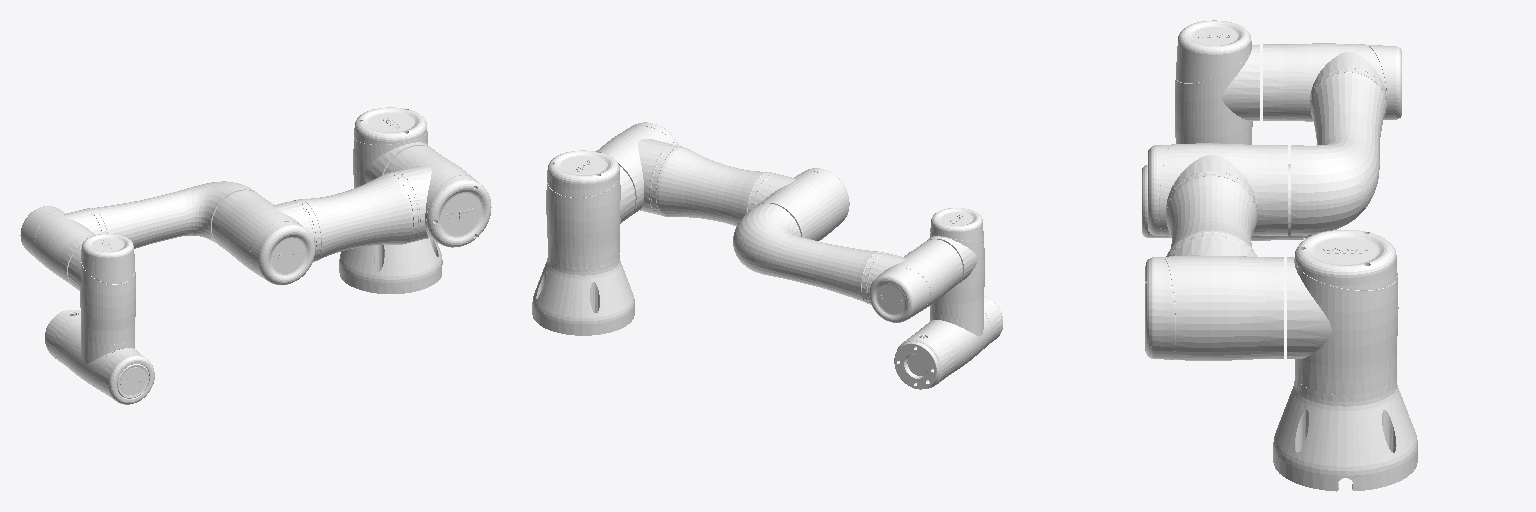
The robot description file, URDF, robot "jaka_zu3":
<?xml version="1.0" encoding="utf-8"?>
<!-- =================================================================================== -->
<!-- |    This document was autogenerated by xacro from jaka_zu3.xacro                 | -->
<!-- |    EDITING THIS FILE BY HAND IS NOT RECOMMENDED                                 | -->
<!-- =================================================================================== -->
<robot name="jaka_zu3">
  <!-- ZU3 -->
  <link name="world"/>
  <joint name="world_joint" type="fixed">
    <parent link="world"/>
    <child link="base_footprint"/>
    <origin rpy="0 0 0" xyz="0 0 0"/>
  </joint>
  <link name="base_footprint">
    <!--
    <xacro:box_inertial_matrix m="200" w ="1" h="0.01" d="1" />
    <visual>
      <origin xyz="0 0 0" rpy="0 0 0" />
      <geometry>
        <box size = "1 1 0.01" />
      </geometry>
      <material name="" />
    </visual>
    <collision>
        <geometry>
          <box size="0 0 0"/>
        </geometry>
        <origin rpy="0 0 0" xyz="0 0 0"/>
      </collision>
-->
  </link>
  <link name="arm_base_link">
    <inertial>
      <origin rpy="0 0 0" xyz="-0.0015673 1.77850000000031E-05 0.05088"/>
      <mass value="0.46392"/>
      <inertia ixx="0.00064493" ixy="-9.92249999999993E-08" ixz="-1.0723E-05" iyy="0.00065156" iyz="-3.78539999999989E-07" izz="0.00083276"/>
    </inertial>
    <visual>
      <origin rpy="1.5707963267949 0 0" xyz="0 0 0"/>
      <geometry>
        <mesh filename="package://jaka_description/meshes/jaka_zu3_meshes/link_0.STL"/>
      </geometry>
      <material name="">
        <color rgba="1 1 1 1"/>
      </material>
    </visual>
    <collision>
      <origin rpy="1.5707963267949 0 0" xyz="0 0 0"/>
      <geometry>
        <mesh filename="package://jaka_description/meshes/jaka_zu3_meshes/link_0.STL"/>
      </geometry>
    </collision>
  </link>
  <joint name="arm_base_joint" type="fixed">
    <origin rpy="0 0 0" xyz="0 0 0"/>
    <parent link="base_footprint"/>
    <child link="arm_base_link"/>
    <axis xyz="0 0 0"/>
  </joint>
  <link name="shoulder_pan_link">
    <inertial>
      <origin rpy="0 0 0" xyz="-1.6776E-07 -0.0039623 -0.0033443"/>
      <mass value="0.89667"/>
      <inertia ixx="0.0016001" ixy="-1.969E-08" ixz="1.9711E-09" iyy="0.0015182" iyz="-1.1122E-05" izz="0.0010892"/>
    </inertial>
    <visual>
      <origin rpy="1.5707963267949 0 0" xyz="0 0 0"/>
      <geometry>
        <mesh filename="package://jaka_description/meshes/jaka_zu3_meshes/link_1.STL"/>
      </geometry>
      <material name="">
        <color rgba="1 1 1 1"/>
      </material>
    </visual>
    <collision>
      <origin rpy="1.5707963267949 0 0" xyz="0 0 0"/>
      <geometry>
        <mesh filename="package://jaka_description/meshes/jaka_zu3_meshes/link_1.STL"/>
      </geometry>
    </collision>
  </link>
  <joint name="shoulder_pan_joint" type="continuous">
    <origin rpy="0 0 0" xyz="0 0 0.15055"/>
    <parent link="arm_base_link"/>
    <child link="shoulder_pan_link"/>
    <axis xyz="0 0 1"/>
    <limit effort="49" lower="-3" upper="3" velocity="1"/>
  </joint>
  <link name="shoulder_lift_link">
    <inertial>
      <origin rpy="0 0 0" xyz="-0.11439 4.56850000071297E-08 0.11644"/>
      <mass value="2.3246"/>
      <inertia ixx="0.0032395" ixy="7.60910000001259E-09" ixz="-0.00020566" iyy="0.027696" iyz="-3.73300000063435E-10" izz="0.02666"/>
    </inertial>
    <visual>
      <origin rpy="1.5707963267949 0 0" xyz="0 0 0"/>
      <geometry>
        <mesh filename="package://jaka_description/meshes/jaka_zu3_meshes/link_2.STL"/>
      </geometry>
      <material name="">
        <color rgba="1 1 1 1"/>
      </material>
    </visual>
    <collision>
      <origin rpy="1.5707963267949 0 0" xyz="0 0 0"/>
      <geometry>
        <mesh filename="package://jaka_description/meshes/jaka_zu3_meshes/link_2.STL"/>
      </geometry>
    </collision>
  </link>
  <joint name="shoulder_lift_joint" type="continuous">
    <origin rpy="1.57079 0 0" xyz="0 0 0"/>
    <parent link="shoulder_pan_link"/>
    <child link="shoulder_lift_link"/>
    <axis xyz="0 0 -1"/>
    <limit effort="49" lower="-3" upper="3" velocity="1"/>
  </joint>
  <link name="elbow_link">
    <inertial>
      <origin rpy="0 0 0" xyz="-0.13616 5.15790000000444E-07 0.0072442"/>
      <mass value="1.176"/>
      <inertia ixx="0.0011462" ixy="-9.01440000000014E-08" ixz="2.3422E-05" iyy="0.010594" iyz="-7.30100000002853E-09" izz="0.010128"/>
    </inertial>
    <visual>
      <origin rpy="1.5707963267949 0 0" xyz="0 0 0"/>
      <geometry>
        <mesh filename="package://jaka_description/meshes/jaka_zu3_meshes/link_3.STL"/>
      </geometry>
      <material name="">
        <color rgba="1 1 1 1"/>
      </material>
    </visual>
    <collision>
      <origin rpy="1.5707963267949 0 0" xyz="0 0 0"/>
      <geometry>
        <mesh filename="package://jaka_description/meshes/jaka_zu3_meshes/link_3.STL"/>
      </geometry>
    </collision>
  </link>
  <joint name="elbow_joint" type="continuous">
    <origin rpy="0 0 0" xyz="-0.248 0 0"/>
    <parent link="shoulder_lift_link"/>
    <child link="elbow_link"/>
    <axis xyz="0 0 -1"/>
    <limit effort="49" lower="-3" upper="3" velocity="1"/>
  </joint>
  <link name="wrist_1_link">
    <inertial>
      <origin rpy="0 0 0" xyz="2.284E-08 -0.014052 -0.0031609"/>
      <mass value="0.49334"/>
      <inertia ixx="0.00074574" ixy="-4.47990000000001E-11" ixz="1.1613E-09" iyy="0.00032983" iyz="-2.5248E-05" izz="0.0007175"/>
    </inertial>
    <visual>
      <origin rpy="1.5707963267949 0 0" xyz="0 0 0"/>
      <geometry>
        <mesh filename="package://jaka_description/meshes/jaka_zu3_meshes/link_4.STL"/>
      </geometry>
      <material name="">
        <color rgba="1 1 1 1"/>
      </material>
    </visual>
    <collision>
      <origin rpy="1.5707963267949 0 0" xyz="0 0 0"/>
      <geometry>
        <mesh filename="package://jaka_description/meshes/jaka_zu3_meshes/link_4.STL"/>
      </geometry>
    </collision>
  </link>
  <joint name="wrist_1_joint" type="continuous">
    <origin rpy="0 0 0" xyz="-0.227796 0 0.1175"/>
    <parent link="elbow_link"/>
    <child link="wrist_1_link"/>
    <axis xyz="0 0 -1"/>
    <limit effort="11" lower="-3" upper="3" velocity="1"/>
  </joint>
  <link name="wrist_2_link">
    <inertial>
      <origin rpy="0 0 0" xyz="-8.4104E-09 0.0068633 -0.0029081"/>
      <mass value="0.55083"/>
      <inertia ixx="0.0010067" ixy="-1.5603E-09" ixz="-4.1167E-09" iyy="0.00036029" iyz="1.6676E-05" izz="0.00097818"/>
    </inertial>
    <visual>
      <origin rpy="1.5707963267949 0 0" xyz="0 0 0"/>
      <geometry>
        <mesh filename="package://jaka_description/meshes/jaka_zu3_meshes/link_5.STL"/>
      </geometry>
      <material name="">
        <color rgba="1 1 1 1"/>
      </material>
    </visual>
    <collision>
      <origin rpy="1.5707963267949 0 0" xyz="0 0 0"/>
      <geometry>
        <mesh filename="package://jaka_description/meshes/jaka_zu3_meshes/link_5.STL"/>
      </geometry>
    </collision>
  </link>
  <joint name="wrist_2_joint" type="continuous">
    <origin rpy="1.57079 3.1415926 0" xyz="0 -0.1175 0"/>
    <parent link="wrist_1_link"/>
    <child link="wrist_2_link"/>
    <axis xyz="0 0 1"/>
    <limit effort="11" lower="-3" upper="3" velocity="1"/>
  </joint>
  <link name="wrist_3_link">
    <inertial>
      <origin rpy="0 0 0" xyz="-4.9727E-05 2.9711999999999E-05 -0.016372"/>
      <mass value="0.10033"/>
      <inertia ixx="3.5902E-05" ixy="-8.8868E-08" ixz="5.6844E-08" iyy="3.6313E-05" iyz="7.66520000000013E-08" izz="5.8133E-05"/>
    </inertial>
    <visual>
      <origin rpy="1.5707963267949 0 0" xyz="0 0 0"/>
      <geometry>
        <mesh filename="package://jaka_description/meshes/jaka_zu3_meshes/link_6.STL"/>
      </geometry>
      <material name="">
        <color rgba="1 1 1 1"/>
      </material>
    </visual>
    <collision>
      <origin rpy="1.5707963267949 0 0" xyz="0 0 0"/>
      <geometry>
        <mesh filename="package://jaka_description/meshes/jaka_zu3_meshes/link_6.STL"/>
      </geometry>
    </collision>
  </link>
  <joint name="wrist_3_joint" type="continuous">
    <origin rpy="-1.57079 0 0" xyz="0 0.105 0"/>
    <parent link="wrist_2_link"/>
    <child link="wrist_3_link"/>
    <axis xyz="0 0 1"/>
    <limit effort="11" lower="-3" upper="3" velocity="1"/>
  </joint>
  <transmission name="shoulder_pan_joint_trans">
    <type>transmission_interface/SimpleTransmission</type>
    <joint name="shoulder_pan_joint">
      <hardwareInterface>hardware_interface/PositionJointInterface</hardwareInterface>
    </joint>
    <actuator name="shoulder_pan_joint_motor">
      <hardwareInterface>hardware_interface/PositionJointInterface</hardwareInterface>
      <mechanicalReduction>1</mechanicalReduction>
    </actuator>
  </transmission>
  <transmission name="shoulder_lift_joint_trans">
    <type>transmission_interface/SimpleTransmission</type>
    <joint name="shoulder_lift_joint">
      <hardwareInterface>hardware_interface/PositionJointInterface</hardwareInterface>
    </joint>
    <actuator name="shoulder_lift_joint_motor">
      <hardwareInterface>hardware_interface/PositionJointInterface</hardwareInterface>
      <mechanicalReduction>1</mechanicalReduction>
    </actuator>
  </transmission>
  <transmission name="elbow_joint_trans">
    <type>transmission_interface/SimpleTransmission</type>
    <joint name="elbow_joint">
      <hardwareInterface>hardware_interface/PositionJointInterface</hardwareInterface>
    </joint>
    <actuator name="elbow_joint_motor">
      <hardwareInterface>hardware_interface/PositionJointInterface</hardwareInterface>
      <mechanicalReduction>1</mechanicalReduction>
    </actuator>
  </transmission>
  <transmission name="wrist_1_joint_trans">
    <type>transmission_interface/SimpleTransmission</type>
    <joint name="wrist_1_joint">
      <hardwareInterface>hardware_interface/PositionJointInterface</hardwareInterface>
    </joint>
    <actuator name="wrist_1_joint_motor">
      <hardwareInterface>hardware_interface/PositionJointInterface</hardwareInterface>
      <mechanicalReduction>1</mechanicalReduction>
    </actuator>
  </transmission>
  <transmission name="wrist_2_joint_trans">
    <type>transmission_interface/SimpleTransmission</type>
    <joint name="wrist_2_joint">
      <hardwareInterface>hardware_interface/PositionJointInterface</hardwareInterface>
    </joint>
    <actuator name="wrist_2_joint_motor">
      <hardwareInterface>hardware_interface/PositionJointInterface</hardwareInterface>
      <mechanicalReduction>1</mechanicalReduction>
    </actuator>
  </transmission>
  <transmission name="wrist_3_joint_trans">
    <type>transmission_interface/SimpleTransmission</type>
    <joint name="wrist_3_joint">
      <hardwareInterface>hardware_interface/PositionJointInterface</hardwareInterface>
    </joint>
    <actuator name="wrist_3_joint_motor">
      <hardwareInterface>hardware_interface/PositionJointInterface</hardwareInterface>
      <mechanicalReduction>1</mechanicalReduction>
    </actuator>
  </transmission>
  <!-- ros_control plugin -->
  <gazebo>
    <plugin filename="libgazebo_ros_control.so" name="gazebo_ros_control">
      <robotNamespace>/jaka_zu3</robotNamespace>
      <robotSimType>gazebo_ros_control/DefaultRobotHWSim</robotSimType>
      <legacyModeNS>true</legacyModeNS>
    </plugin>
  </gazebo>
</robot>

--- Facts derived from the render (not from the file) ---
The picture shows the robot from 3 angles, left to right: view 1: azimuth 30°, elevation 25°; view 2: azimuth 150°, elevation 25°; view 3: azimuth 270°, elevation 25°; orthographic projection.
Robot: jaka_zu3 — 9 links, 8 joints (6 continuous, 2 fixed); root link world; default pose: every joint at zero.
Visible links, largest first — view 1: shoulder_lift_link, elbow_link, wrist_1_link, wrist_2_link, arm_base_link, shoulder_pan_link, wrist_3_link; view 2: shoulder_lift_link, elbow_link, shoulder_pan_link, arm_base_link, wrist_1_link, wrist_2_link, wrist_3_link; view 3: shoulder_lift_link, elbow_link, shoulder_pan_link, arm_base_link, wrist_1_link, wrist_2_link.
Boxes of the visible links, x1,y1,x2,y2 form: shoulder_lift_link: (212,146,491,284); elbow_link: (20,181,257,286); wrist_1_link: (68,234,135,344); wrist_2_link: (55,316,154,404); arm_base_link: (339,238,442,293); shoulder_pan_link: (353,107,433,187); wrist_3_link: (45,310,80,361); shoulder_lift_link: (596,122,849,240); elbow_link: (733,203,962,322); shoulder_pan_link: (546,150,635,267); arm_base_link: (532,253,634,335); wrist_1_link: (927,208,984,317); wrist_2_link: (915,296,1002,376); wrist_3_link: (894,333,950,389); shoulder_lift_link: (1145,143,1287,360); elbow_link: (1263,43,1401,235); shoulder_pan_link: (1287,230,1398,394); arm_base_link: (1273,374,1417,491); wrist_1_link: (1175,20,1259,144); wrist_2_link: (1142,164,1298,240).
Bounding box of the posed robot: 0.5753 × 0.246 × 0.2115 m (x, y, z).
Meshes: 7 distinct files referenced, 7 mesh visuals loaded (7 binary STL).
